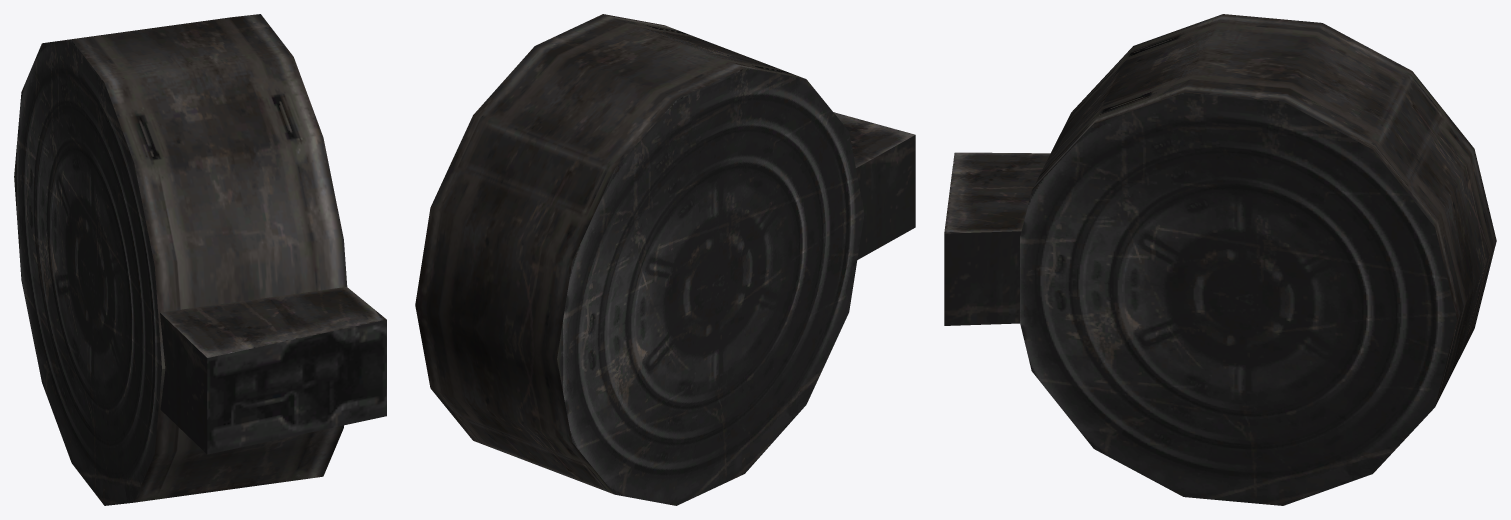
The model's file is t6_attach_mag_type05_lmg_world_LOD0.obj.
The picture shows the model from 3 angles, left to right: view 1: azimuth 30°, elevation 25°; view 2: azimuth 150°, elevation 25°; view 3: azimuth 270°, elevation 25°; orthographic projection. The views are drawn at different scales.
Parts seen in each view (by area): view 1: mtl_t6_wpn_lmg_type95_drum; view 2: mtl_t6_wpn_lmg_type95_drum; view 3: mtl_t6_wpn_lmg_type95_drum.
Part boxes in pixels (x1,y1,x2,y2): mtl_t6_wpn_lmg_type95_drum: (14, 14, 386, 505); mtl_t6_wpn_lmg_type95_drum: (415, 14, 915, 505); mtl_t6_wpn_lmg_type95_drum: (944, 14, 1496, 505).
Size of the model in its own units: 9.2 by 14.37 by 17.79.
